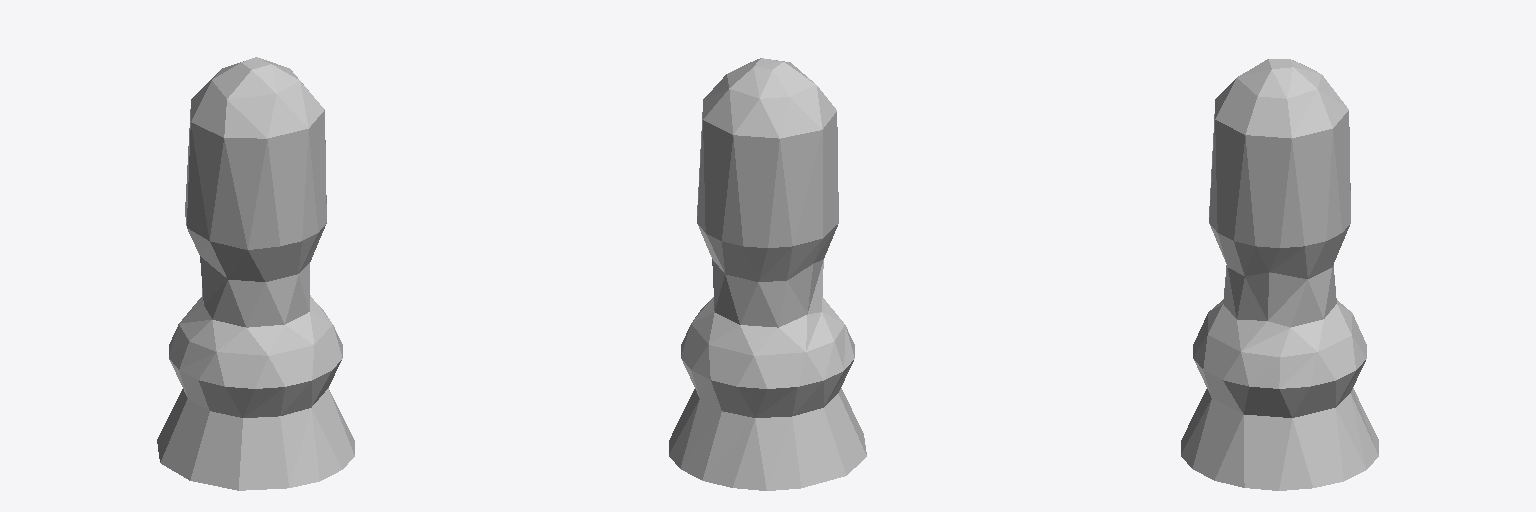
Rendered from light_5.obj.
3 views of the same model, side by side, from view 1: azimuth 30°, elevation 25°; view 2: azimuth 150°, elevation 25°; view 3: azimuth 270°, elevation 25° (orthographic).
Visible parts, largest first — view 1: Cylinder001.004_Untitled.010; view 2: Cylinder001.004_Untitled.010; view 3: Cylinder001.004_Untitled.010.
Boxes of the visible parts, x1,y1,x2,y2 form: Cylinder001.004_Untitled.010: [157, 57, 354, 490]; Cylinder001.004_Untitled.010: [669, 58, 866, 490]; Cylinder001.004_Untitled.010: [1181, 59, 1378, 490].
Size of the model in its own units: 0.2348 by 0.4952 by 0.2317.